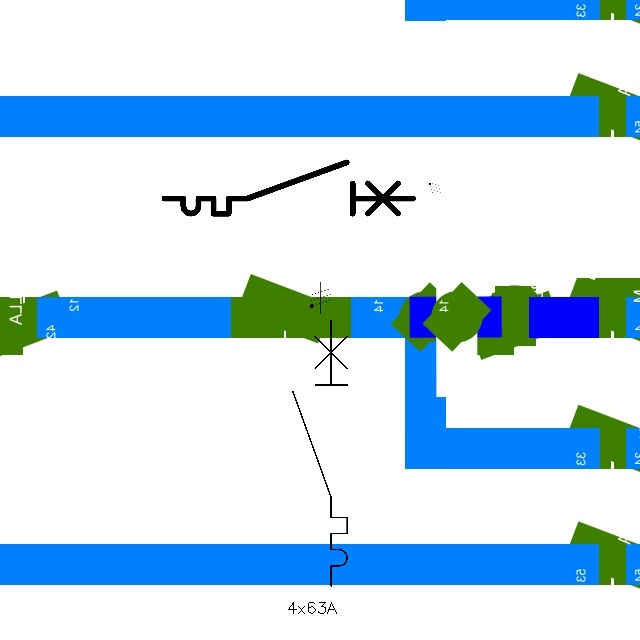interruptor_termomagnetico: (286, 313, 354, 593), (158, 156, 420, 220)
